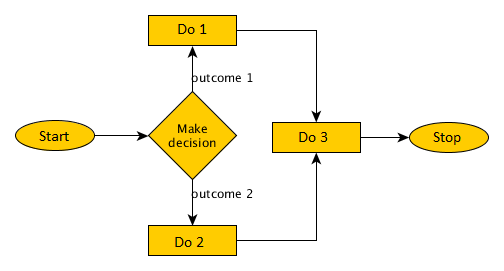arrow: (235, 150, 323, 243), (235, 28, 322, 122), (186, 44, 199, 95), (186, 177, 199, 227), (92, 132, 150, 143), (359, 131, 410, 142)
decision: (146, 92, 239, 180)
process: (146, 13, 239, 47), (270, 120, 362, 154), (147, 223, 238, 257)
terminator: (407, 121, 490, 155), (13, 119, 96, 152)
text: (167, 121, 217, 149), (190, 187, 255, 199), (191, 72, 252, 84), (431, 130, 461, 146), (175, 22, 209, 36), (38, 129, 71, 143), (297, 130, 330, 143)
